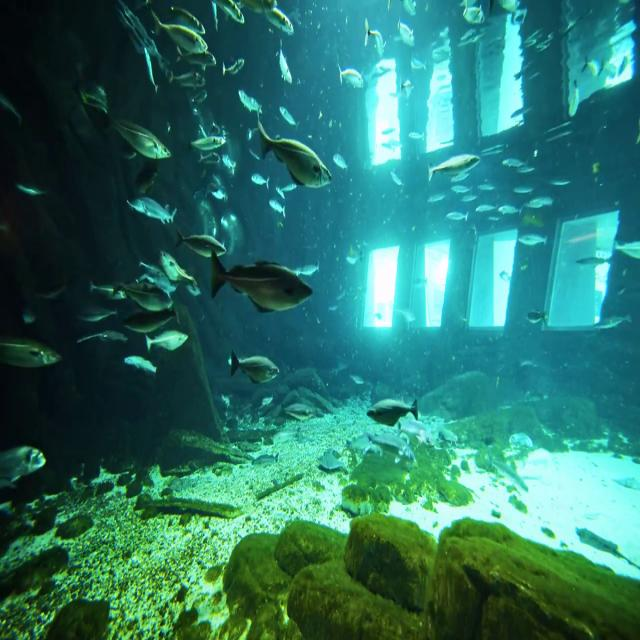fish: (206, 243, 318, 316), (255, 123, 338, 200), (0, 306, 64, 378), (106, 256, 168, 318), (360, 390, 432, 439), (111, 101, 167, 160), (146, 18, 213, 64), (116, 192, 191, 232), (1, 419, 48, 482), (424, 140, 488, 186), (226, 348, 284, 391), (72, 76, 118, 127), (336, 58, 375, 108), (273, 38, 310, 88), (173, 227, 229, 259), (144, 322, 192, 358), (122, 349, 166, 383), (182, 130, 236, 156), (360, 21, 391, 64), (258, 0, 292, 34), (459, 2, 494, 32), (240, 86, 272, 118), (396, 16, 424, 48), (222, 46, 246, 80)
